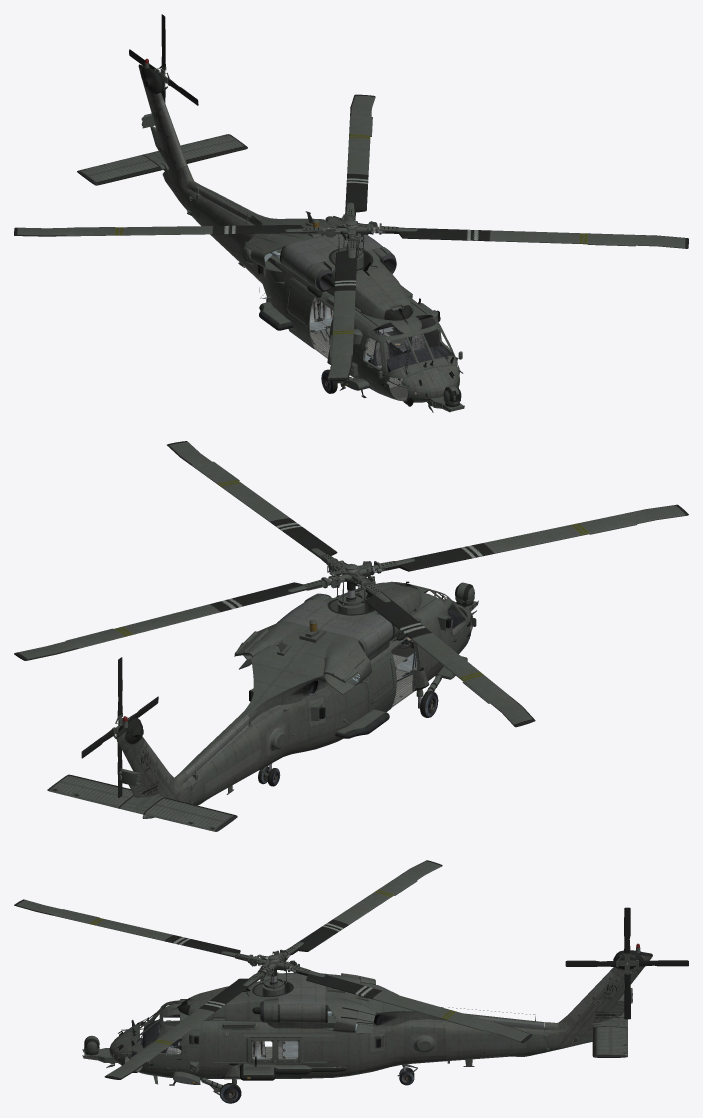
3 renders of one model, top to bottom at view 1: azimuth 30°, elevation 25°; view 2: azimuth 150°, elevation 25°; view 3: azimuth 270°, elevation 25°, orthographic. The views are drawn at different scales.
Visible parts, largest first — view 1: MainRotor, Object_9, Object_20, Object_12, Object_13, Object_18, Object_19, Object_2, Object_17, Object_5, Object_8, Object_10 (+3 smaller); view 2: MainRotor, Object_9, Object_20, Object_12, Object_13, Object_18, Object_8, Object_17, Object_2, Object_11, TailRotor, Object_19 (+1 smaller); view 3: MainRotor, Object_9, Object_19, Object_21, Object_13, Object_20, Object_12, Object_10, Object_18, TailRotor, Object_17, Object_5 (+5 smaller).
Part boxes in pixels (x1,y1,x2,y2): MainRotor: (14, 94, 688, 380); Object_9: (187, 185, 459, 391); Object_20: (188, 192, 425, 388); Object_12: (77, 69, 463, 412); Object_13: (138, 62, 459, 404); Object_18: (240, 222, 463, 406); Object_19: (187, 195, 459, 403); Object_2: (309, 298, 459, 400); Object_17: (284, 279, 462, 386); Object_5: (311, 301, 449, 372); Object_8: (192, 185, 457, 404); Object_10: (199, 185, 455, 397); MainRotor: (14, 441, 688, 727); Object_9: (180, 581, 470, 803); Object_20: (188, 585, 476, 805); Object_12: (47, 589, 477, 831); Object_13: (116, 592, 468, 818); Object_18: (251, 585, 472, 770); Object_8: (184, 582, 469, 803); Object_17: (365, 600, 476, 712); Object_2: (387, 581, 472, 706); Object_11: (119, 578, 478, 794); TailRotor: (81, 657, 158, 797); Object_19: (191, 585, 472, 804); MainRotor: (14, 860, 532, 1079); Object_9: (127, 973, 547, 1084); Object_19: (109, 1008, 547, 1084); Object_21: (110, 983, 445, 1079); Object_13: (85, 947, 652, 1095); Object_20: (121, 999, 548, 1060); Object_12: (82, 951, 649, 1084); Object_10: (109, 972, 547, 1080); Object_18: (110, 1000, 418, 1073); TailRotor: (565, 907, 688, 1019); Object_17: (147, 1017, 304, 1069); Object_5: (126, 1020, 298, 1066).
Size of the model in its own units: 1690 by 647 by 2196.
3 materials, 3 textured.
